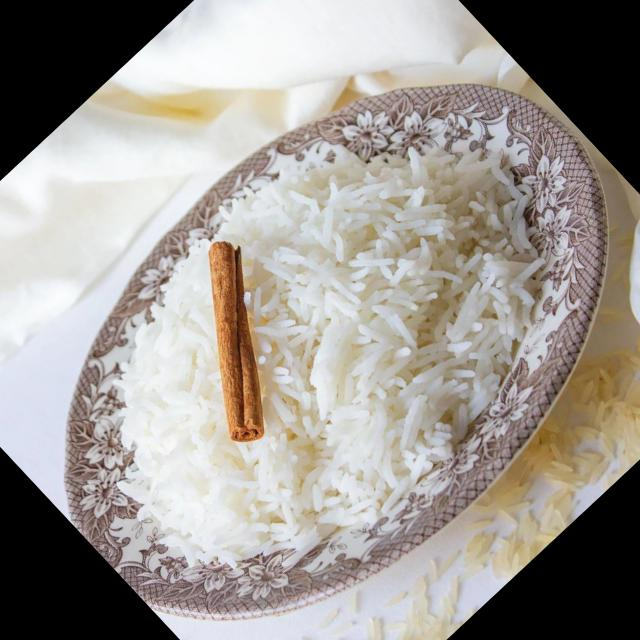rice: (105, 141, 534, 570)
